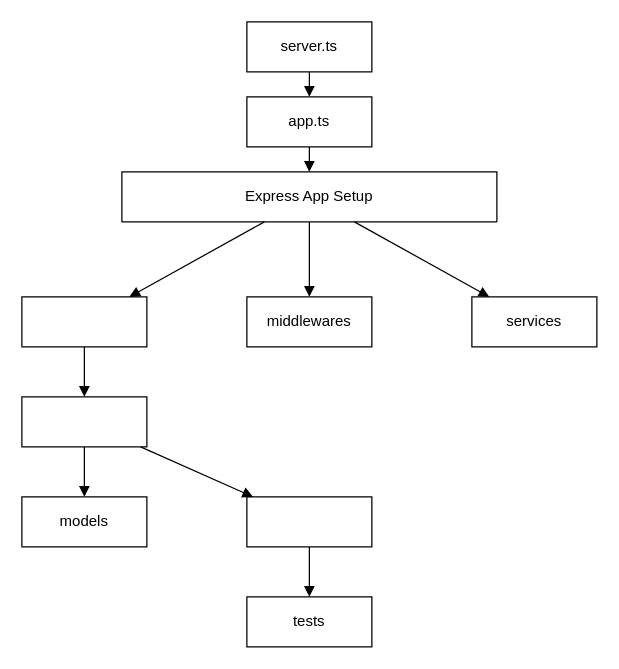
The diagram is 619 pixels wide and 669 high, and some of its shapes have lost their labels. Here are the shapes that lost their labels. From the top down, the centre of each, then its label:
the point at 84,321: routes
the point at 84,421: controllers
the point at 309,521: utils
